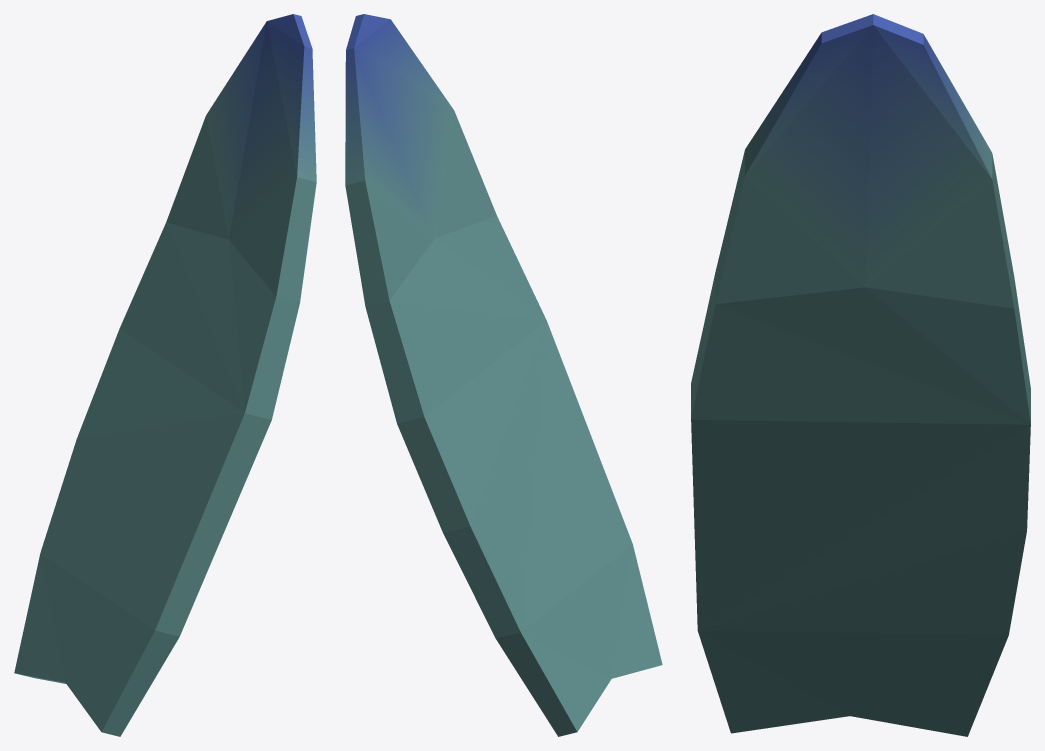
File: bay-surfboard.lod2.glb
3 views of the same model, side by side, from view 1: azimuth 30°, elevation 25°; view 2: azimuth 150°, elevation 25°; view 3: azimuth 270°, elevation 25° (orthographic). The views are drawn at different scales.
Parts seen in each view (by area): view 1: LightBlue-material; view 2: LightBlue-material; view 3: LightBlue-material.
Boxes of the visible parts, left/top/right/bottom form: LightBlue-material: left=14, top=14, right=316, bottom=736; LightBlue-material: left=345, top=14, right=662, bottom=736; LightBlue-material: left=691, top=14, right=1030, bottom=736.
Size of the model in its own units: 0.8773 by 2.1 by 0.7389.
